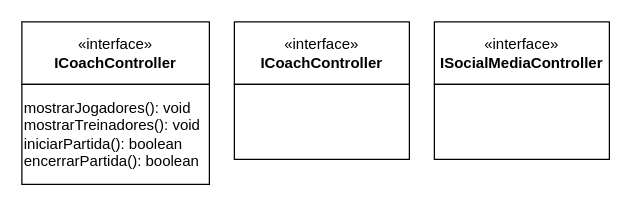
Some shapes in this 631 by 206 pixel diagram are drawn without their labels. The shapes that lost their labels are listed below. From the top down, each one's centre as x and y in pixels, then its label:
At point (321, 121): "montarLineUp(): void treinarLineUp () : boolean trazerProTime () : void".
At point (521, 121): "fazerPost(): void".
